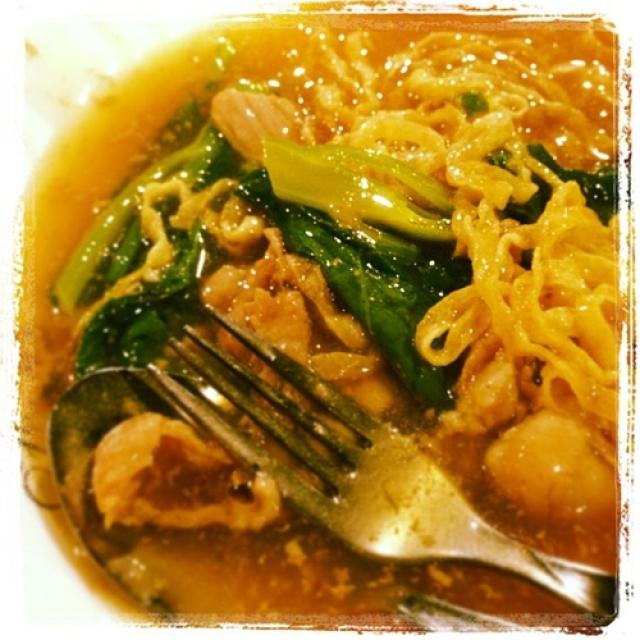面条主食: (39, 28, 616, 611)
